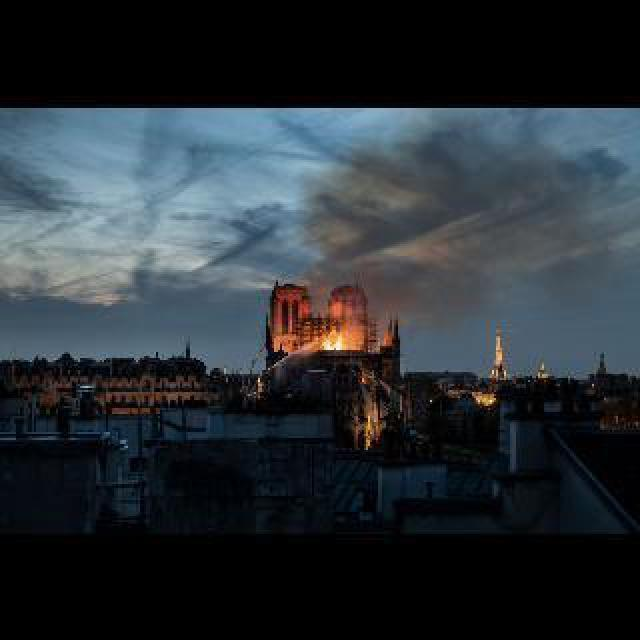Fire: (320, 334, 346, 350)
Smoke: (306, 116, 622, 324)
